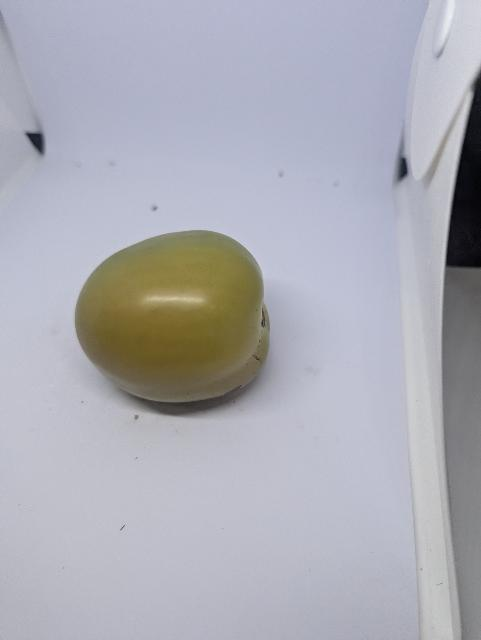breaker: (74, 226, 275, 412)
